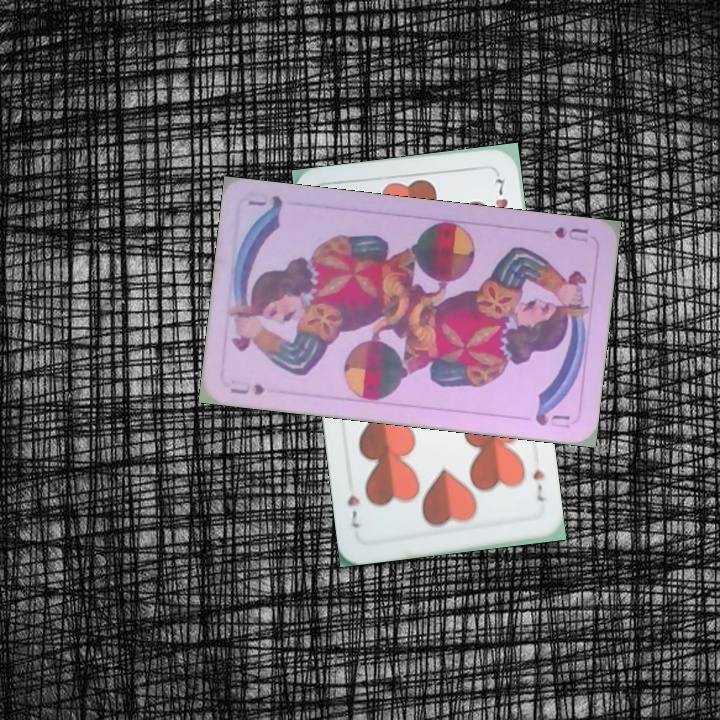H7: (529, 466, 547, 504)
SU: (226, 377, 269, 398), (550, 223, 591, 245)
